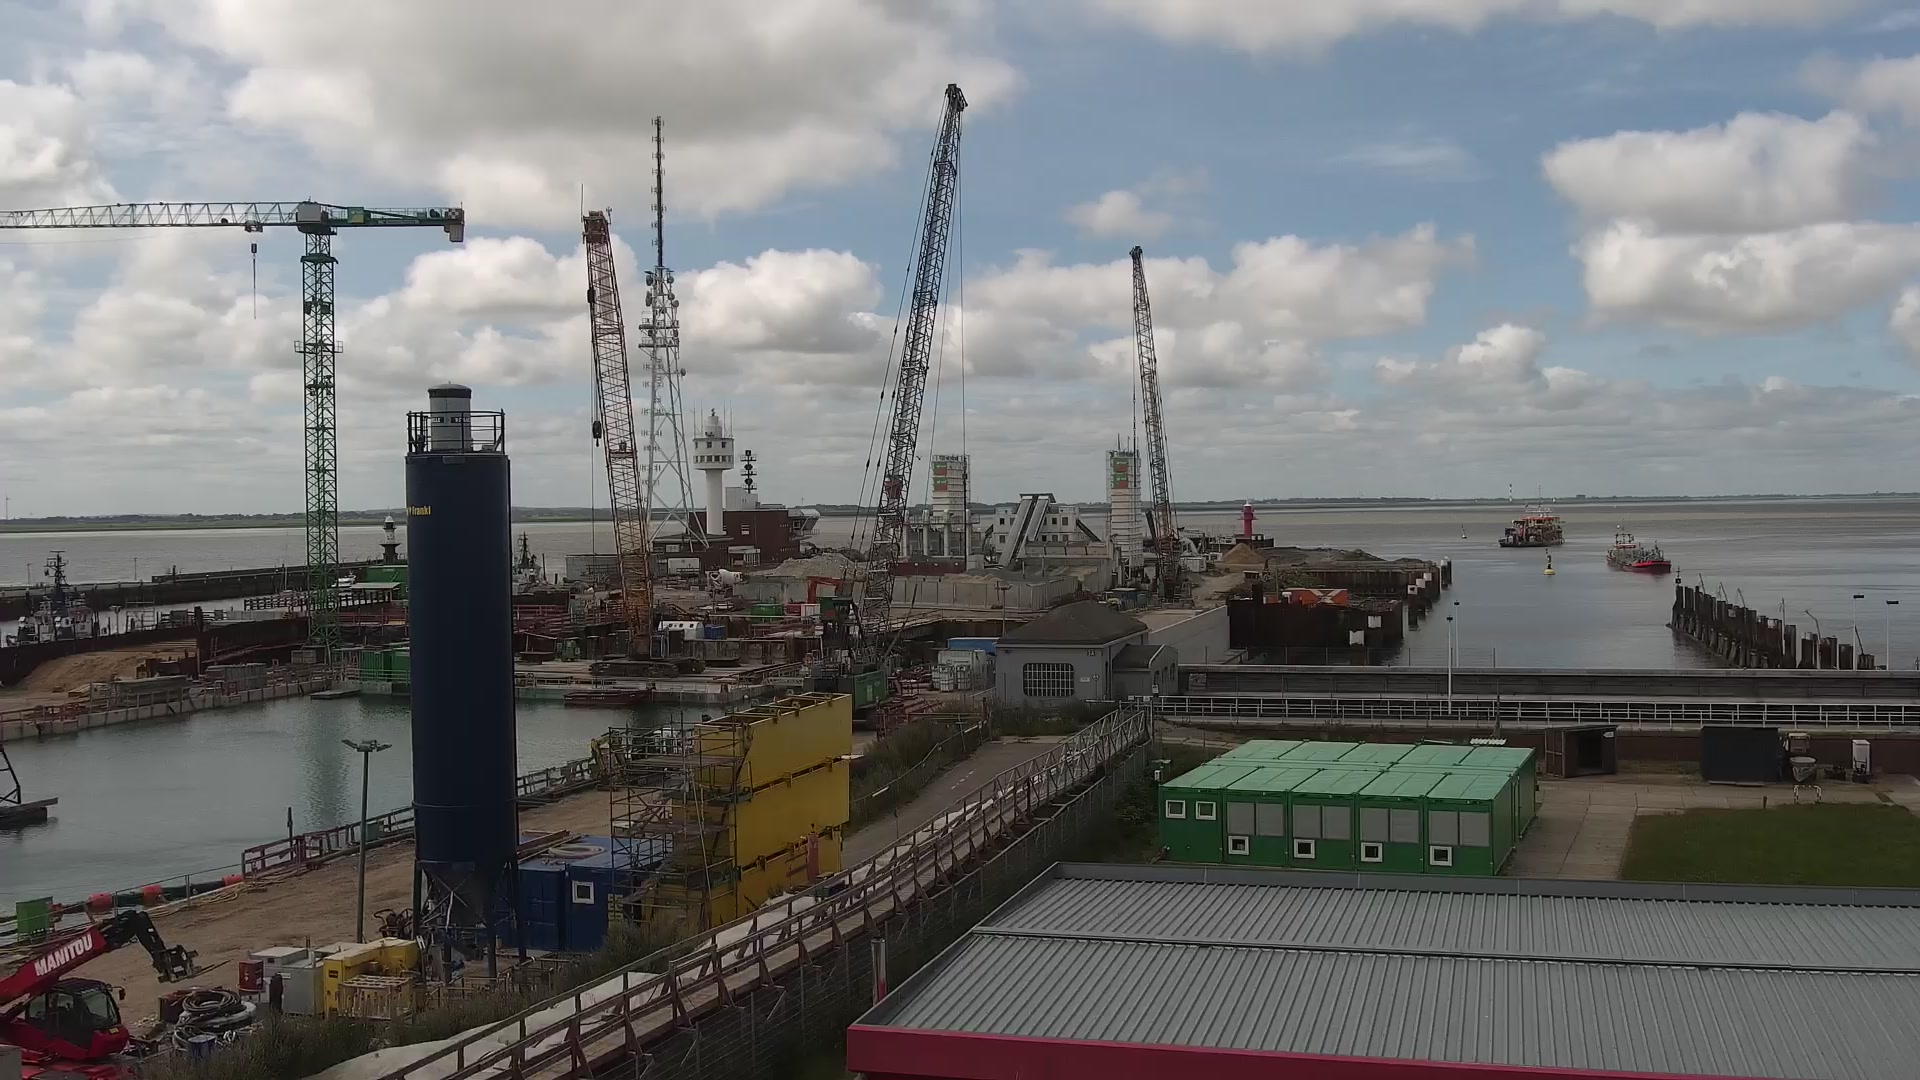land: (1, 909, 233, 1080), (589, 725, 638, 791)
sea: (1, 551, 107, 649), (1498, 484, 1567, 547), (1605, 518, 1672, 572), (562, 687, 649, 705), (330, 570, 357, 587)
